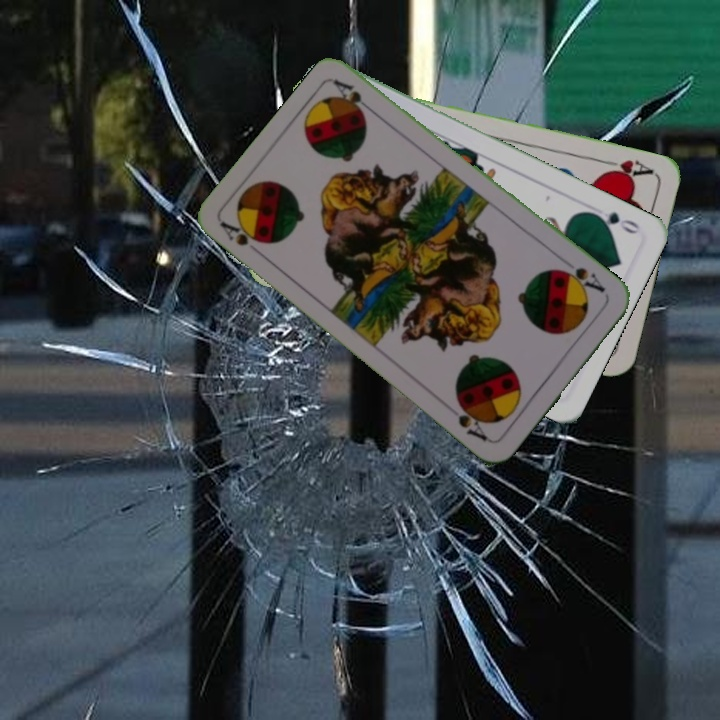GO: (586, 207, 642, 237)
HA: (597, 155, 656, 183)
SA: (217, 213, 271, 258), (555, 263, 609, 296)
